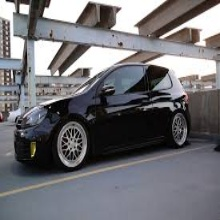no damage: (14, 63, 192, 171)
